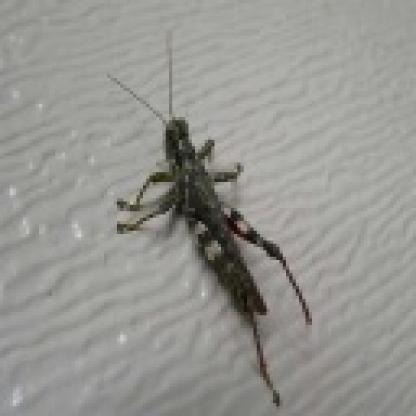grasshopper: (102, 65, 318, 329)
